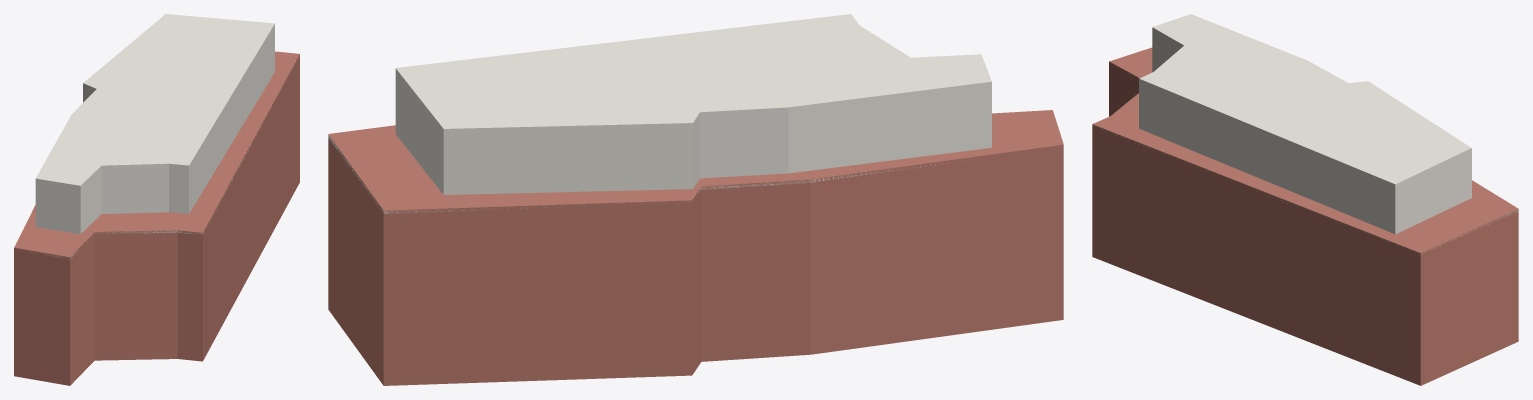
Rendered from blockx.glb.
3 views of the same model, side by side, from view 1: azimuth 30°, elevation 25°; view 2: azimuth 150°, elevation 25°; view 3: azimuth 270°, elevation 25° (orthographic). The views are drawn at different scales.
Parts seen in each view (by area): view 1: BLKX_lower, BLKX_roof_edge, BLKX_upper, BLKX_terrace_edge; view 2: BLKX_lower, BLKX_roof_edge, BLKX_upper, BLKX_terrace_edge; view 3: BLKX_lower, BLKX_roof_edge, BLKX_upper.
Part boxes in pixels (x1,y1,x2,y2): BLKX_lower: (14, 51, 299, 385); BLKX_roof_edge: (35, 14, 274, 189); BLKX_upper: (35, 28, 274, 234); BLKX_terrace_edge: (14, 55, 299, 259); BLKX_lower: (328, 110, 1063, 385); BLKX_roof_edge: (395, 14, 991, 134); BLKX_upper: (395, 74, 991, 194); BLKX_terrace_edge: (328, 135, 1048, 213); BLKX_lower: (1092, 47, 1518, 385); BLKX_roof_edge: (1139, 14, 1471, 188); BLKX_upper: (1139, 31, 1471, 234).
Size of the model in its own units: 87.29 by 35.8 by 75.69.
